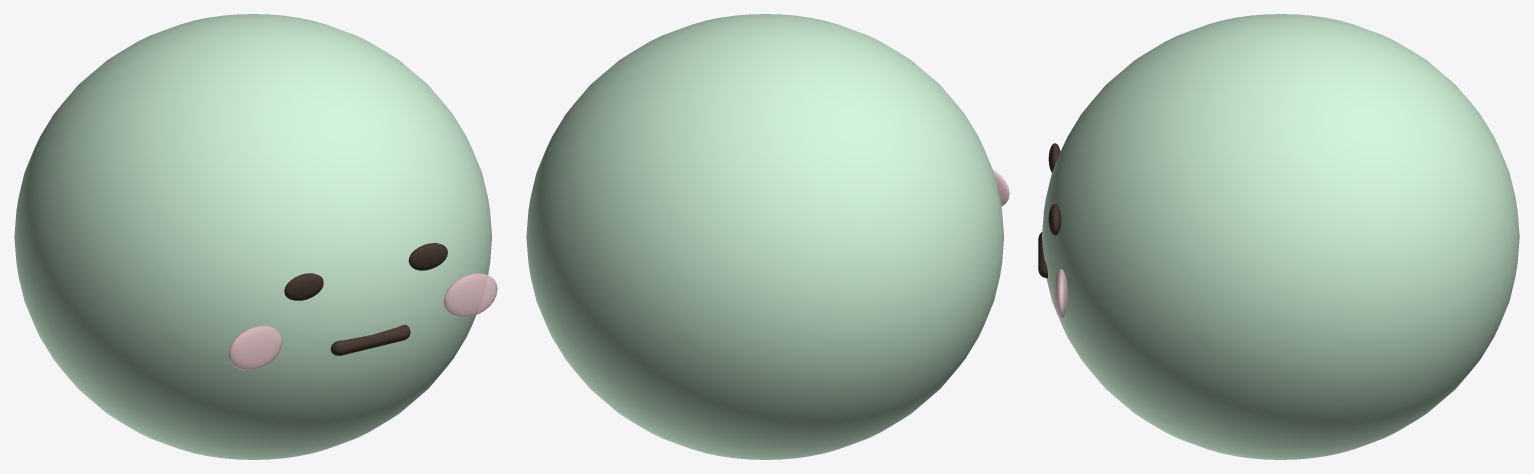
Rendered from mochi.glb.
The picture shows the model from 3 angles, left to right: view 1: azimuth 30°, elevation 25°; view 2: azimuth 150°, elevation 25°; view 3: azimuth 270°, elevation 25°; orthographic projection.
Parts seen in each view (by area): view 1: wakppu_mochi, cheek.001, cheek, mouth, eye, eye.001; view 2: wakppu_mochi; view 3: wakppu_mochi, cheek.001.
Part boxes in pixels (box(x1,y1,x2,y2)): wakppu_mochi: box(14, 14, 491, 459); cheek.001: box(444, 273, 497, 317); cheek: box(228, 326, 282, 370); mouth: box(330, 324, 410, 355); eye: box(284, 273, 323, 300); eye.001: box(408, 243, 447, 270); wakppu_mochi: box(526, 14, 1003, 459); wakppu_mochi: box(1042, 14, 1519, 459); cheek.001: box(1054, 269, 1067, 318).
Size of the model in its own units: 2 by 1.84 by 2.02.
